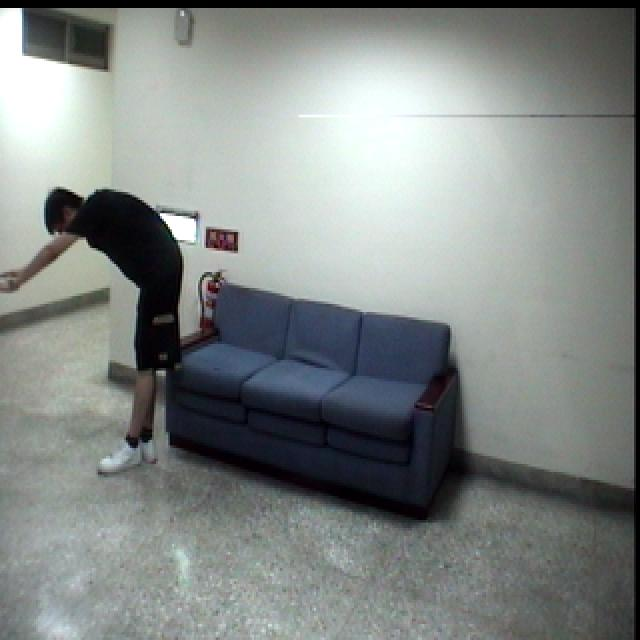bend: (0, 177, 193, 481)
